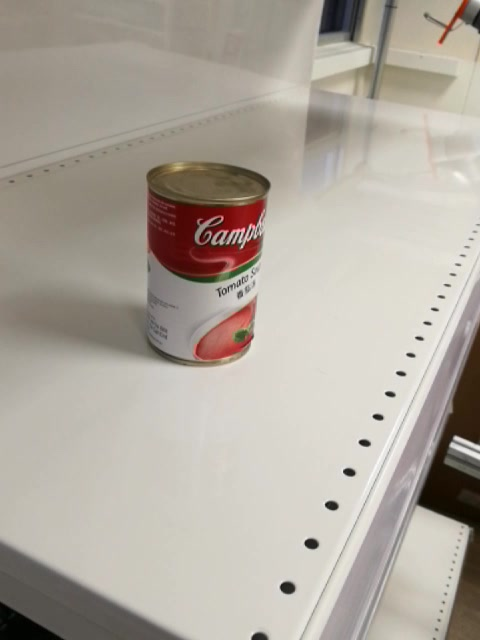tomatosoup: (145, 156, 270, 368)
